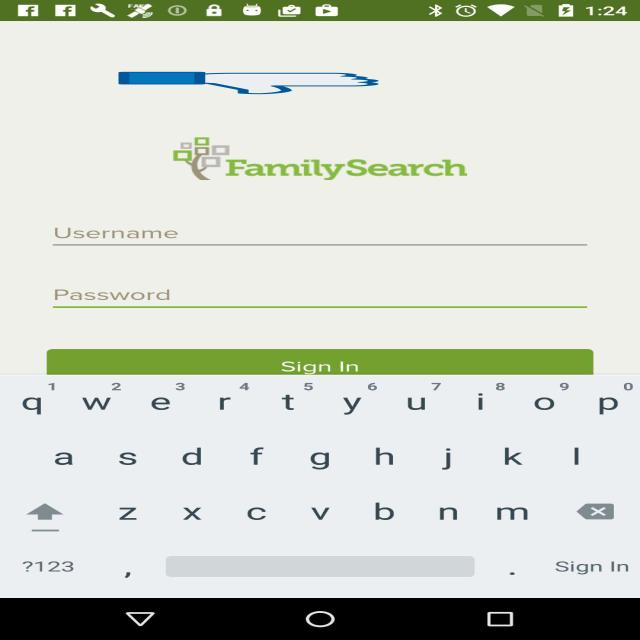obstruction: (119, 71, 378, 95)
